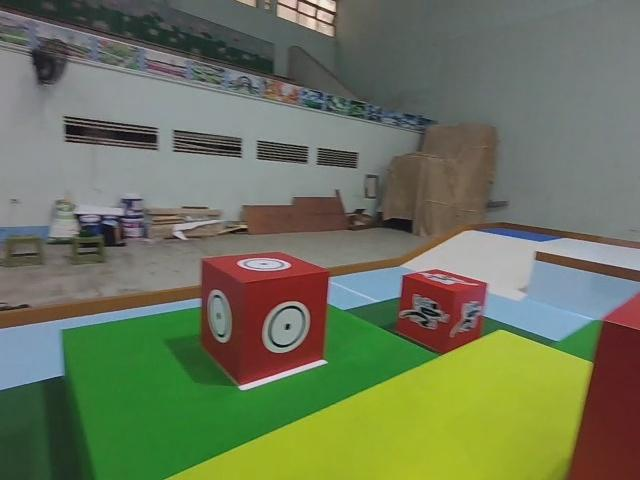R1: (396, 268, 486, 359)
R2 Real: (201, 250, 330, 390)
